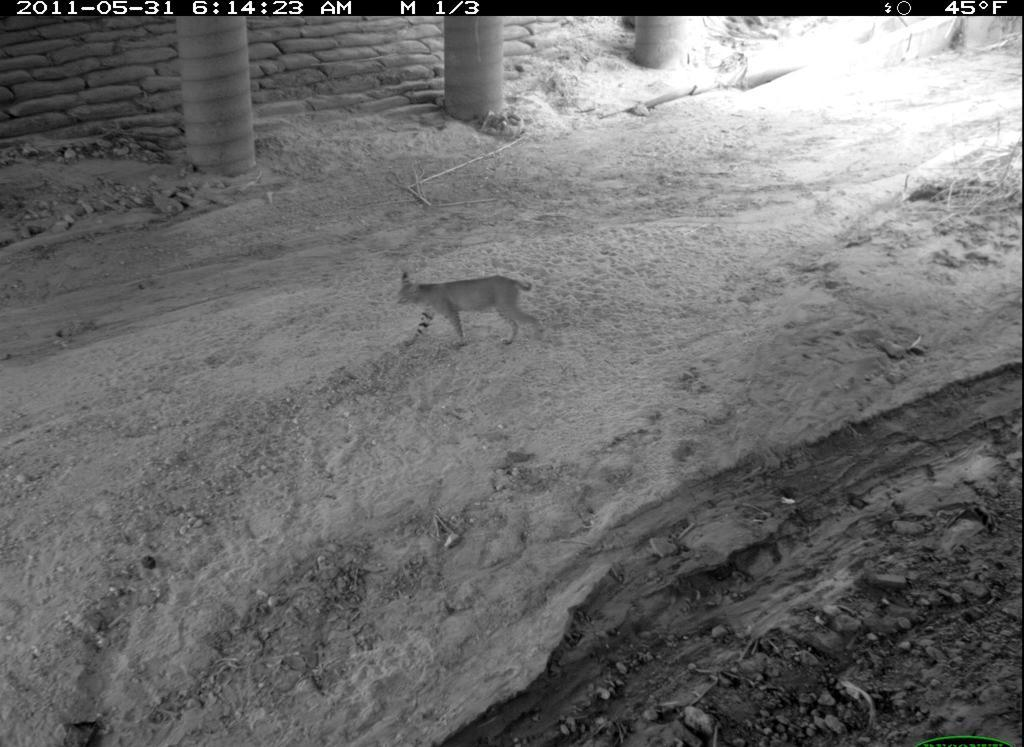bobcat: (391, 263, 548, 355)
